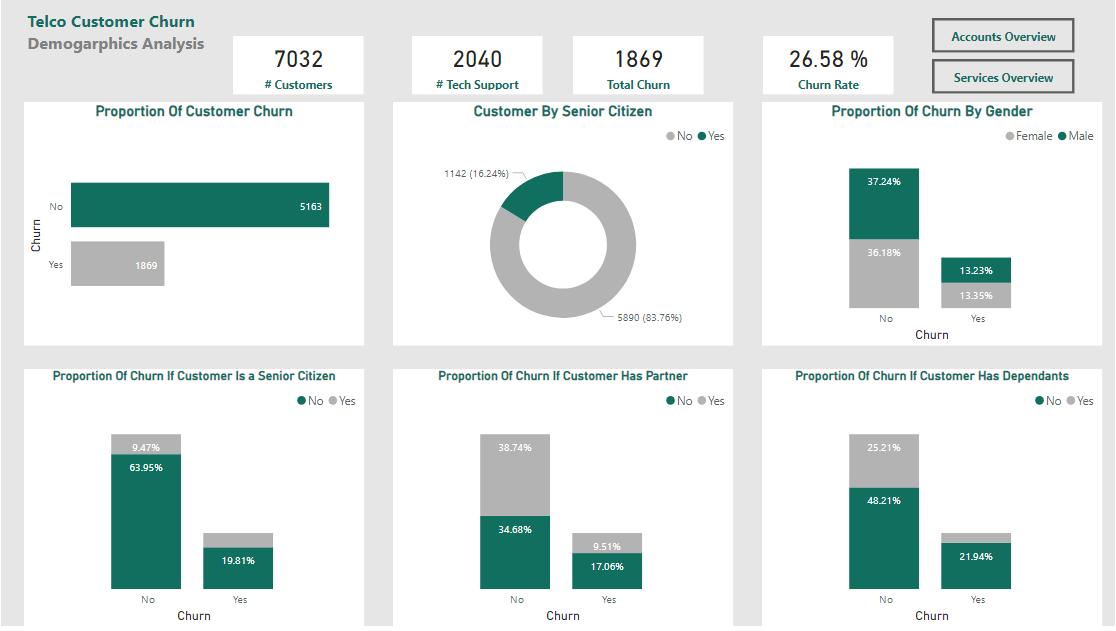

What the dashboard file says about the page in this screenshot:
{"tool":"powerbi","page":{"name":"Demographics Overview","canvas":[1280,720],"ordinal":0},"visuals":[{"type":"card","fields":{"Values":["Dax Measuers.# Customers"]},"box":[266.7,41.1,150,66.7],"z":0},{"type":"card","fields":{"Values":["Dax Measuers.# Tech Support"]},"box":[472.2,41.1,150,66.7],"z":1000},{"type":"card","fields":{"Values":["Dax Measuers.Total Churn"]},"box":[657.8,41.1,150,66.7],"z":2000},{"type":"card","fields":{"Values":["Dax Measuers.Churn Rate"]},"box":[875.6,41.1,150,66.7],"z":3000},{"type":"textbox","box":[25.6,5.6,244.4,111.1],"z":4000},{"type":"clusteredBarChart","title":"Proportion Of Customer Churn","fields":{"Category":["FactCustomerChurn.Churn"],"Y":["Dax Measuers.# Customers"]},"box":[26,117,391,280],"z":5000},{"type":"donutChart","title":"Customer By Senior Citizen","fields":{"Y":["Dax Measuers.# Customers"],"Category":["FactCustomerChurn.IsSeniorCitizen"]},"box":[450.5,117,391,280],"z":6000},{"type":"columnChart","title":"Proportion Of Churn By Gender","fields":{"Category":["FactCustomerChurn.Churn"],"Series":["DimGender.gender"],"Y":["Dax Measuers.# Customers"]},"box":[875,117,391,280],"z":7000},{"type":"columnChart","title":"Proportion Of Churn If Customer Has Dependants","fields":{"Category":["FactCustomerChurn.Churn"],"Y":["Dax Measuers.# Customers"],"Series":["FactCustomerChurn.Dependents"]},"box":[875,424,391,296],"z":8000},{"type":"columnChart","title":"Proportion Of Churn If Customer Is a Senior Citizen","fields":{"Y":["CountNonNull(FactCustomerChurn.IsSeniorCitizen)"],"Category":["FactCustomerChurn.Churn"],"Series":["FactCustomerChurn.IsSeniorCitizen"]},"box":[26,424,391,296],"z":9000},{"type":"columnChart","title":"Proportion Of Churn If Customer Has Partner","fields":{"Category":["FactCustomerChurn.Churn"],"Y":["Dax Measuers.# Customers"],"Series":["FactCustomerChurn.Partner"]},"box":[451,424,391,296],"z":10000},{"type":"actionButton","box":[1070,21.1,164.4,40],"z":11000},{"type":"actionButton","box":[1070,67.8,164.4,40],"z":12000}]}

Visuals, with their boxes in screenshot pixels (x1, y1, x2, y2), scaled from the page's 1280x720 canvas onto the 1116x631 screenshot:
card - Dax Measuers.# Customers: select_region(233, 36, 363, 94)
card - Dax Measuers.# Tech Support: select_region(412, 36, 542, 94)
card - Dax Measuers.Total Churn: select_region(574, 36, 704, 94)
card - Dax Measuers.Churn Rate: select_region(763, 36, 894, 94)
textbox: select_region(22, 5, 235, 102)
"Proportion Of Customer Churn" clusteredBarChart: select_region(23, 103, 364, 348)
"Customer By Senior Citizen" donutChart: select_region(393, 103, 734, 348)
"Proportion Of Churn By Gender" columnChart: select_region(763, 103, 1104, 348)
"Proportion Of Churn If Customer Has Dependants" columnChart: select_region(763, 372, 1104, 630)
"Proportion Of Churn If Customer Is a Senior Citizen" columnChart: select_region(23, 372, 364, 630)
"Proportion Of Churn If Customer Has Partner" columnChart: select_region(393, 372, 734, 630)
actionButton: select_region(933, 18, 1076, 54)
actionButton: select_region(933, 59, 1076, 94)
